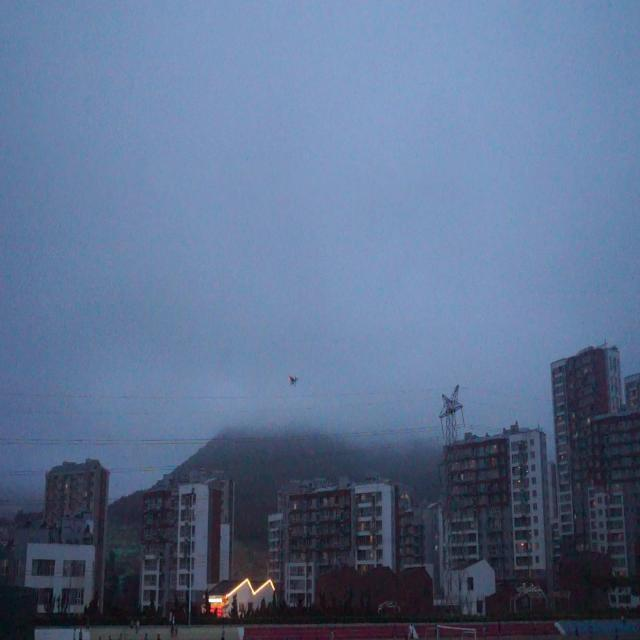drone: (285, 369, 301, 390)
